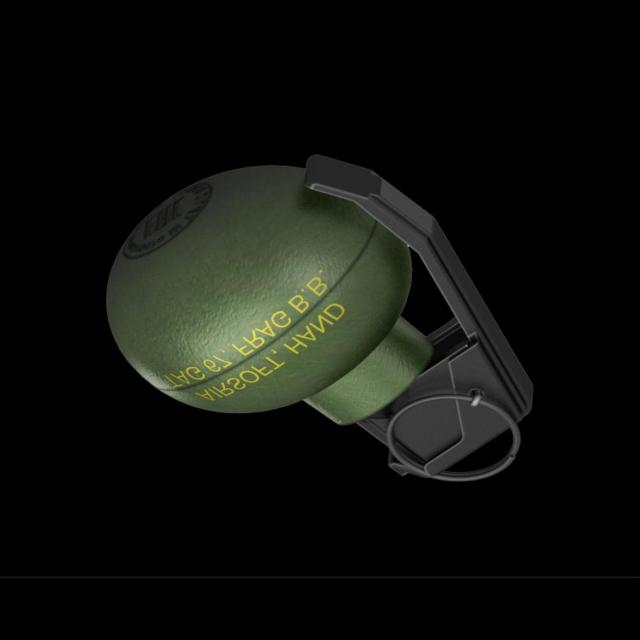grenade: (105, 152, 533, 479)
